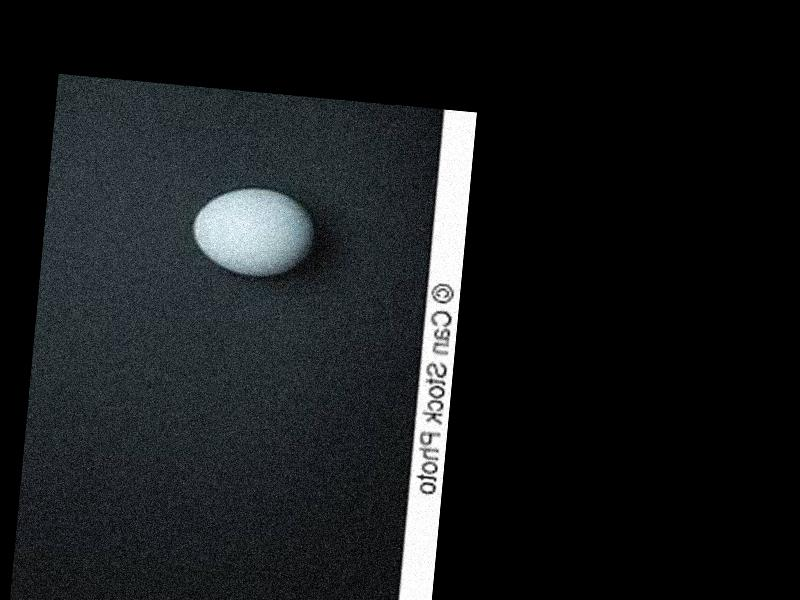Eggs: (188, 180, 317, 280)
